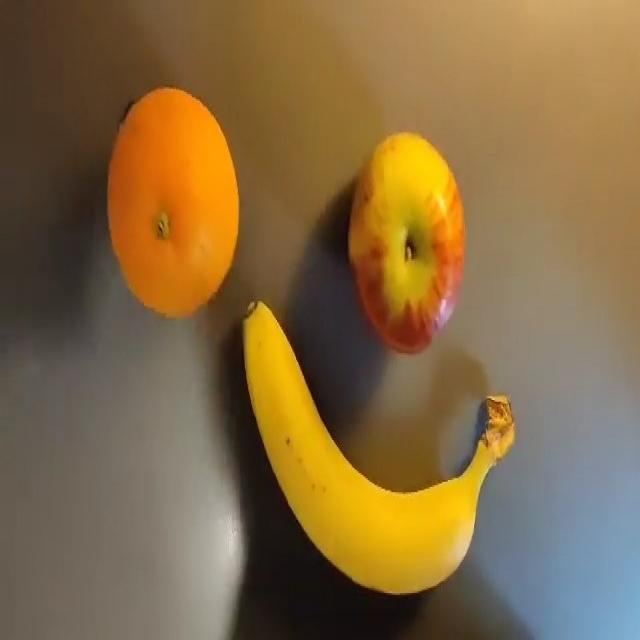Apple: (347, 131, 466, 353)
Banana: (241, 299, 516, 595)
Orange: (105, 85, 240, 319)
